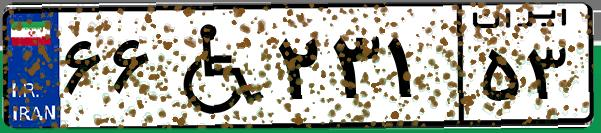1: (385, 28, 445, 110)
2: (270, 28, 330, 110)
3: (330, 28, 385, 110), (525, 38, 570, 115)
5: (475, 38, 525, 113)
6: (57, 26, 110, 100), (110, 28, 158, 98)
ژ (معلولین و جانبازان): (158, 12, 270, 120)
